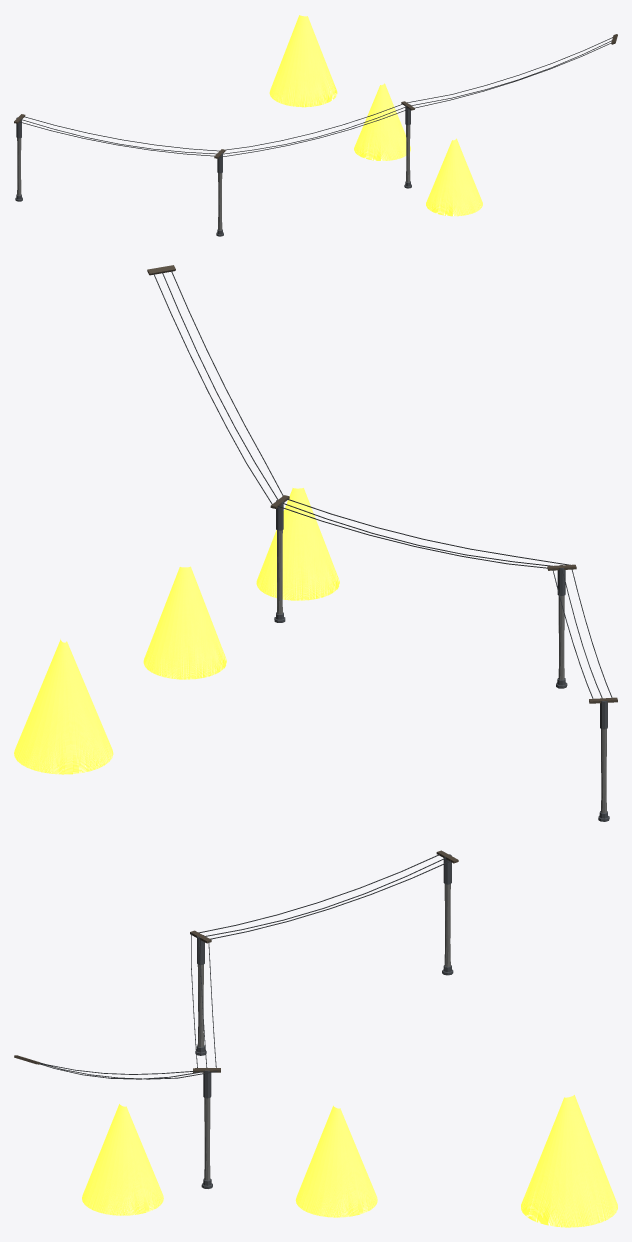
The model's file is traversant2.gltf.
3 views of the same model, one above another, from view 1: azimuth 30°, elevation 25°; view 2: azimuth 150°, elevation 25°; view 3: azimuth 270°, elevation 25° (orthographic). The views are drawn at different scales.
Visible parts, largest first — view 1: LightLampadaire.004, LightLampadaire.001, LightLampadaire.003, polySurface1394_PolygonCity_Mat_01_A_0.001, polySurface1394_PolygonCity_Mat_01_A_0.003, polySurface1394_PolygonCity_Mat_01_A_0.002, polySurface1415_PolygonCity_Mat_01_A_0.003, polySurface1415_PolygonCity_Mat_01_A_0.001, polySurface1415_PolygonCity_Mat_01_A_0.002; view 2: LightLampadaire.004, LightLampadaire.003, LightLampadaire.001, polySurface1394_PolygonCity_Mat_01_A_0.002, polySurface1394_PolygonCity_Mat_01_A_0.003, polySurface1394_PolygonCity_Mat_01_A_0.001, polySurface1415_PolygonCity_Mat_01_A_0.002, polySurface1415_PolygonCity_Mat_01_A_0.001, polySurface1415_PolygonCity_Mat_01_A_0.003; view 3: LightLampadaire.004, LightLampadaire.003, LightLampadaire.001, polySurface1394_PolygonCity_Mat_01_A_0.001, polySurface1415_PolygonCity_Mat_01_A_0.003, polySurface1415_PolygonCity_Mat_01_A_0.001, polySurface1415_PolygonCity_Mat_01_A_0.002, polySurface1394_PolygonCity_Mat_01_A_0.003, polySurface1394_PolygonCity_Mat_01_A_0.002.
Boxes of the visible parts, box(x1,y1,x2,y2) form: LightLampadaire.004: box(269, 15, 337, 107); LightLampadaire.001: box(426, 138, 482, 216); LightLampadaire.003: box(354, 83, 410, 160); polySurface1394_PolygonCity_Mat_01_A_0.001: box(14, 114, 225, 158); polySurface1394_PolygonCity_Mat_01_A_0.003: box(407, 34, 617, 108); polySurface1394_PolygonCity_Mat_01_A_0.002: box(219, 101, 414, 157); polySurface1415_PolygonCity_Mat_01_A_0.003: box(404, 104, 411, 188); polySurface1415_PolygonCity_Mat_01_A_0.001: box(15, 117, 22, 201); polySurface1415_PolygonCity_Mat_01_A_0.002: box(216, 153, 223, 236); LightLampadaire.004: box(14, 639, 113, 774); LightLampadaire.003: box(143, 566, 226, 679); LightLampadaire.001: box(256, 488, 339, 600); polySurface1394_PolygonCity_Mat_01_A_0.002: box(270, 495, 570, 568); polySurface1394_PolygonCity_Mat_01_A_0.003: box(147, 265, 283, 504); polySurface1394_PolygonCity_Mat_01_A_0.001: box(547, 564, 617, 703); polySurface1415_PolygonCity_Mat_01_A_0.002: box(556, 565, 567, 688); polySurface1415_PolygonCity_Mat_01_A_0.001: box(598, 701, 609, 821); polySurface1415_PolygonCity_Mat_01_A_0.003: box(274, 500, 285, 622); LightLampadaire.004: box(521, 1095, 617, 1227); LightLampadaire.003: box(295, 1105, 377, 1217); LightLampadaire.001: box(82, 1104, 163, 1215); polySurface1394_PolygonCity_Mat_01_A_0.001: box(190, 850, 458, 943); polySurface1415_PolygonCity_Mat_01_A_0.003: box(201, 1070, 212, 1188); polySurface1415_PolygonCity_Mat_01_A_0.001: box(442, 854, 453, 975); polySurface1415_PolygonCity_Mat_01_A_0.002: box(195, 935, 206, 1055); polySurface1394_PolygonCity_Mat_01_A_0.003: box(14, 1055, 217, 1079); polySurface1394_PolygonCity_Mat_01_A_0.002: box(191, 933, 220, 1072).
Bounding box in the file's own units: 93.56 × 31.6 × 73.69.
2 materials, 2 textured.
